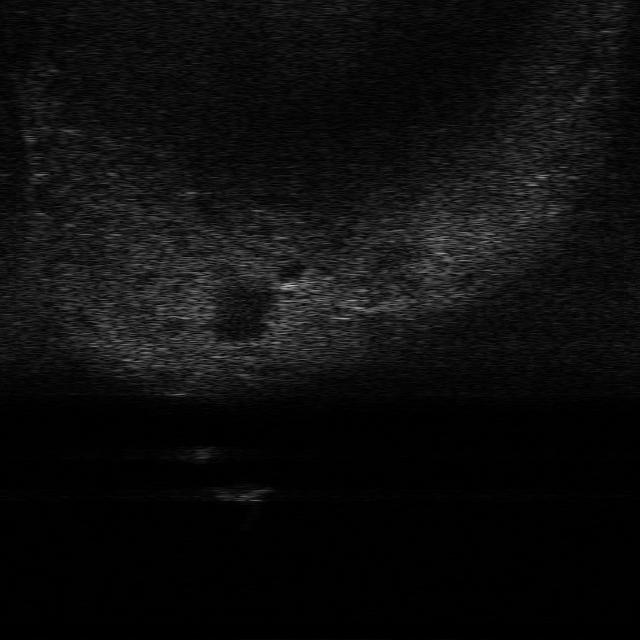cube: (212, 486, 272, 502)
